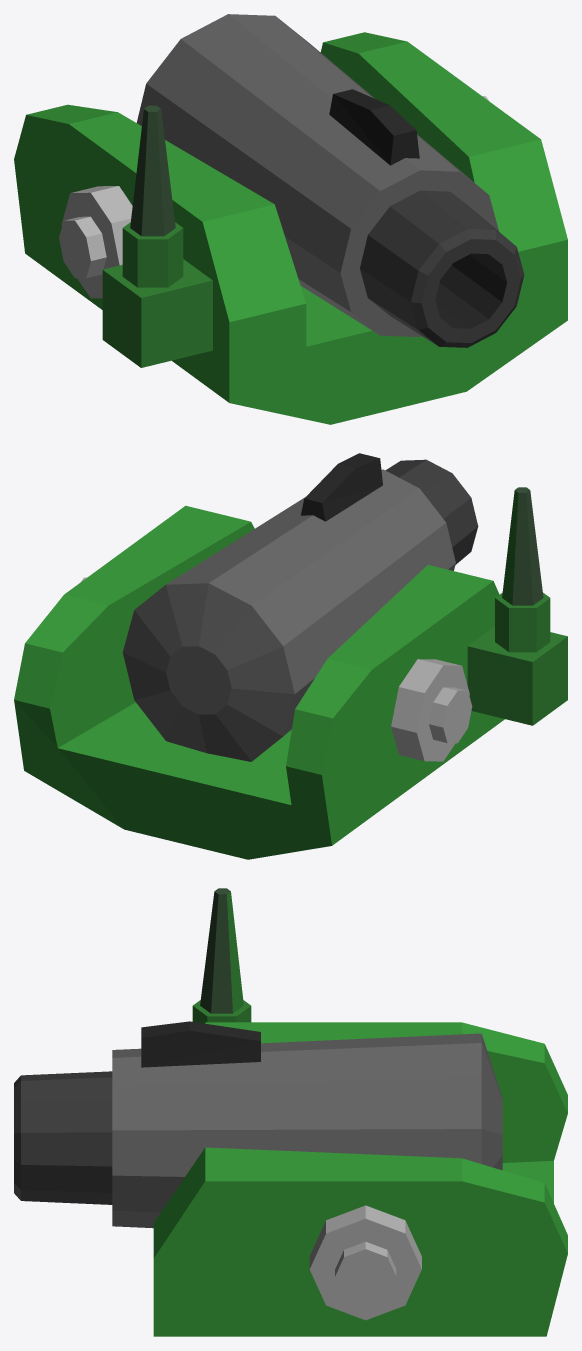
The model's file is medium_cannon.fbx.
3 renders of one model, top to bottom at view 1: azimuth 30°, elevation 25°; view 2: azimuth 150°, elevation 25°; view 3: azimuth 270°, elevation 25°, orthographic. The views are drawn at different scales.
Visible parts, largest first — view 1: Cube.010, Circle.001, Circle.002, Cylinder.001, Cube.012; view 2: Cube.010, Circle.001, Circle.002, Cylinder.001, Cube.012; view 3: Cube.010, Circle.001, Cylinder.001, Cube.012, Circle.002.
Part boxes in pixels (x1,y1,x2,y2): Cube.010: [14, 32, 567, 424]; Circle.001: [136, 14, 524, 347]; Circle.002: [102, 105, 212, 367]; Cylinder.001: [59, 96, 489, 298]; Cube.012: [329, 89, 419, 165]; Cube.010: [14, 505, 504, 859]; Circle.001: [122, 459, 478, 761]; Circle.002: [467, 487, 567, 725]; Cylinder.001: [81, 577, 472, 761]; Cube.012: [301, 453, 382, 521]; Cube.010: [153, 1022, 567, 1336]; Circle.001: [14, 1033, 502, 1228]; Cylinder.001: [309, 1205, 421, 1320]; Cube.012: [141, 1021, 260, 1067]; Circle.002: [192, 888, 251, 1023].
Size of the model in its own units: 126 by 86.02 by 138.
